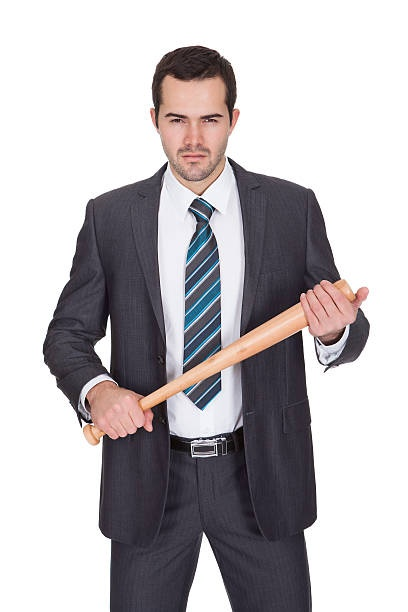bita: (83, 271, 347, 437)
